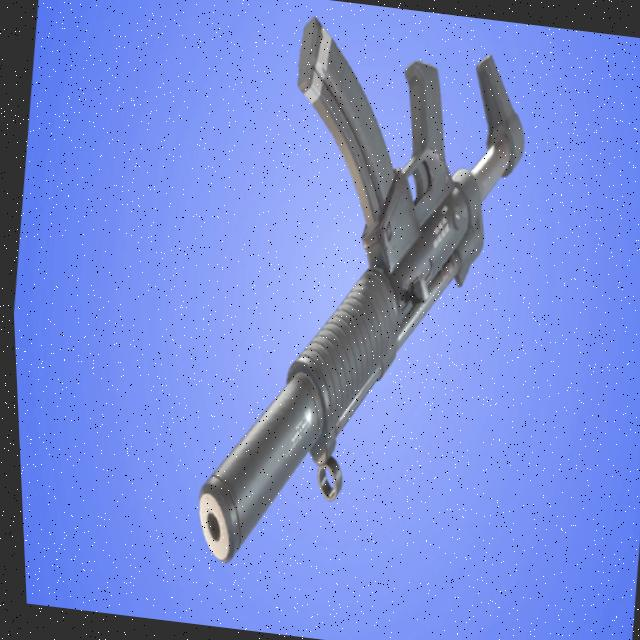firearm: (165, 2, 551, 594)
